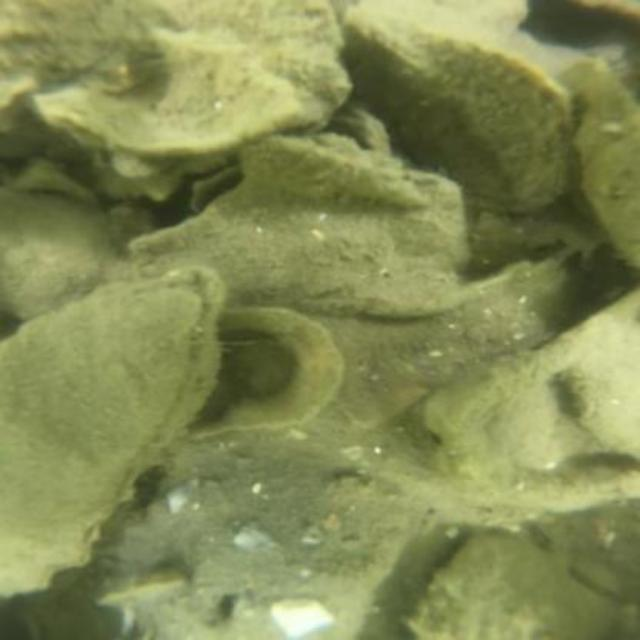Oyster-Closed: (2, 261, 225, 593), (21, 0, 350, 205), (130, 138, 472, 311), (118, 466, 424, 638), (425, 283, 638, 511), (348, 19, 572, 211), (171, 305, 347, 448), (411, 531, 627, 638), (0, 0, 127, 120), (576, 63, 638, 280), (4, 190, 107, 318), (564, 289, 638, 463)
